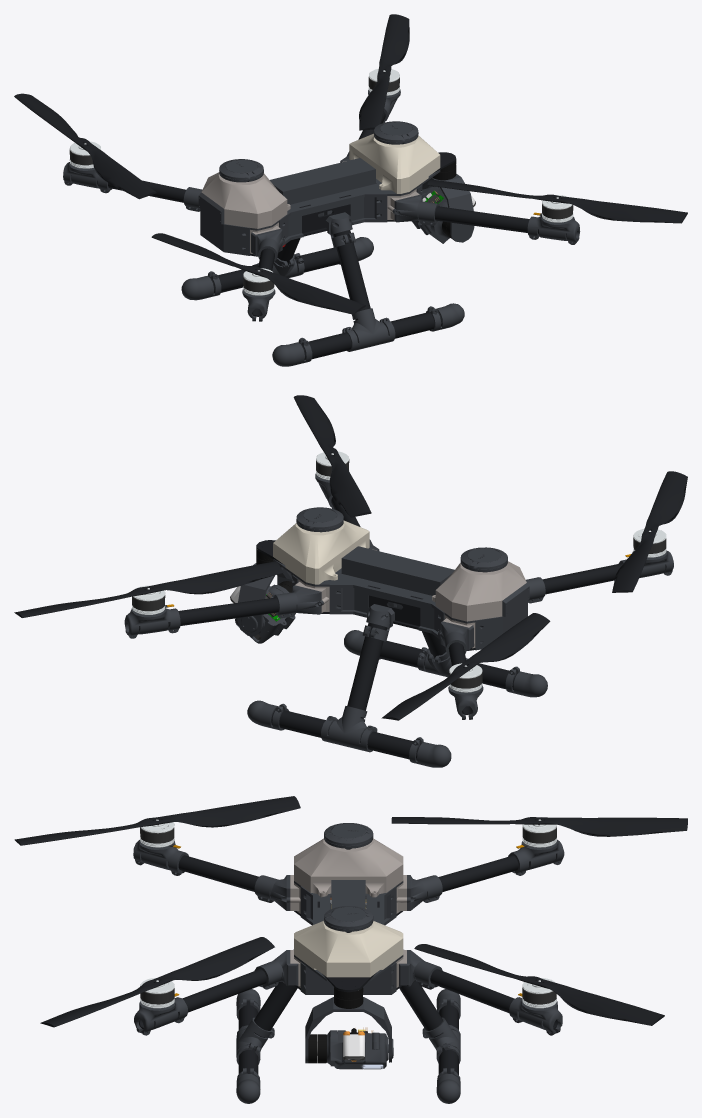
The picture shows the model from 3 angles, top to bottom: view 1: azimuth 30°, elevation 25°; view 2: azimuth 150°, elevation 25°; view 3: azimuth 270°, elevation 25°; orthographic projection. The views are drawn at different scales.
Visible parts, largest first — view 1: front_cover-1, back_cover-1, CNHL6200mAh6S-1, Prop 22 x 6-4, Prop 22 x 6-2, Prop 22 x 6-3, Prop 22 x 6-1, side_panel-3, skid_tube-2, skid_cross-2, arm_tube-3, back_panel-1 (+19 smaller); view 2: front_cover-1, back_cover-1, CNHL6200mAh6S-1, Prop 22 x 6-1, Prop 22 x 6-3, Prop 22 x 6-4, Prop 22 x 6-2, side_panel-2, skid_tube-1, skid_cross-1, arm_tube-1, leg_tube-6 (+20 smaller); view 3: front_cover-1, back_cover-1, Prop 22 x 6-3, Prop 22 x 6-2, Prop 22 x 6-1, Prop 22 x 6-4, front_panel-1, arm_tube-1, arm_tube-3, yaw_shroud-1, gopro_mount-1, arm_tube-2 (+29 smaller).
Boxes of the visible parts, <box> form: front_cover-1: <box>349,133,440,193</box>; back_cover-1: <box>201,172,290,228</box>; CNHL6200mAh6S-1: <box>270,158,375,215</box>; Prop 22 x 6-4: <box>427,179,687,223</box>; Prop 22 x 6-2: <box>151,233,365,314</box>; Prop 22 x 6-3: <box>14,93,156,199</box>; Prop 22 x 6-1: <box>359,14,409,130</box>; side_panel-3: <box>279,194,387,245</box>; skid_tube-2: <box>300,312,441,359</box>; skid_cross-2: <box>342,308,395,351</box>; arm_tube-3: <box>435,206,566,237</box>; back_panel-1: <box>200,209,249,255</box>; front_cover-1: <box>273,520,369,584</box>; back_cover-1: <box>432,561,526,621</box>; CNHL6200mAh6S-1: <box>341,546,454,595</box>; Prop 22 x 6-1: <box>14,561,283,617</box>; Prop 22 x 6-3: <box>381,613,550,720</box>; Prop 22 x 6-4: <box>293,395,371,517</box>; Prop 22 x 6-2: <box>612,471,687,592</box>; side_panel-2: <box>329,584,444,639</box>; skid_tube-1: <box>271,710,421,760</box>; skid_cross-1: <box>321,706,377,752</box>; arm_tube-1: <box>139,597,278,630</box>; leg_tube-6: <box>347,622,386,718</box>; front_cover-1: <box>294,921,403,977</box>; back_cover-1: <box>294,838,403,897</box>; Prop 22 x 6-3: <box>391,817,687,836</box>; Prop 22 x 6-2: <box>14,796,300,845</box>; Prop 22 x 6-1: <box>414,944,664,1025</box>; Prop 22 x 6-4: <box>40,937,274,1027</box>; front_panel-1: <box>300,962,396,994</box>; arm_tube-1: <box>430,969,558,1028</box>; arm_tube-3: <box>139,969,266,1029</box>; yaw_shroud-1: <box>305,997,391,1063</box>; gopro_mount-1: <box>327,1030,388,1069</box>; arm_tube-2: <box>168,855,258,891</box>.
Bounding box in the file's own units: 0.7474 × 0.2776 × 0.9244.
